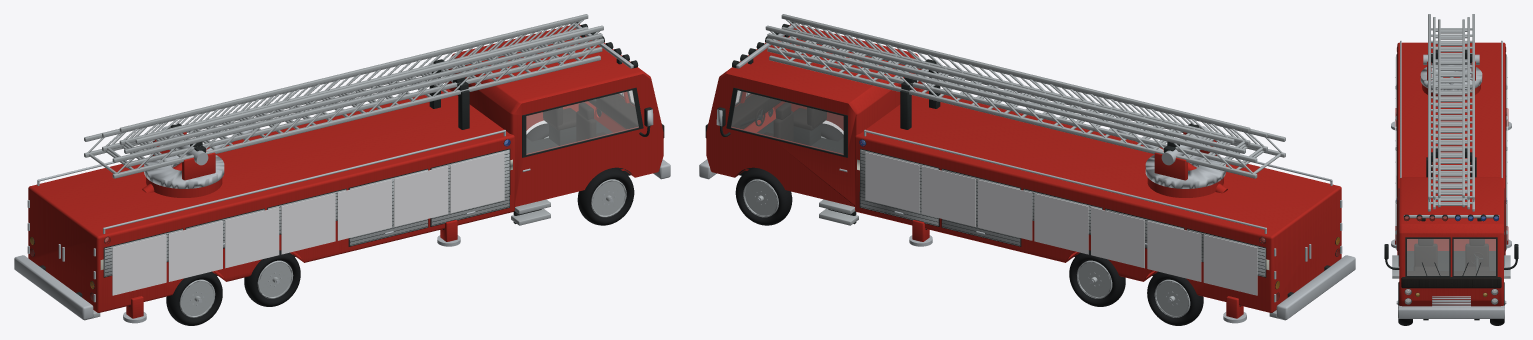
Rendered from ladder.glb.
3 renders of one model, left to right at view 1: azimuth 30°, elevation 25°; view 2: azimuth 150°, elevation 25°; view 3: azimuth 270°, elevation 25°, orthographic. The views are drawn at different scales.
Parts seen in each view (by area): view 1: Closed turntable pedestal, Axle 1 left wheel bearing hub, Axle 1 left wheel seated through axle, Axle 1 bowed spring leaf 590 0, Axle 1 left wheel rounded tyre carcass, Cab 1 side window finite glazing, Ladder 1 compartment R4 door (approx), Ladder 1 compartment R1 door (approx), Ladder 1 compartment R7 door (approx), Ladder 1 compartment R3 door (approx), Ladder 1 compartment R6 door (approx), Ladder 1 compartment R5 door (approx) (+2 smaller); view 2: Closed turntable pedestal, Axle 1 left wheel bearing hub, Axle 1 left wheel seated through axle, Axle 1 bowed spring leaf 590 0, Axle 1 left wheel rounded tyre carcass, Cab 1 side window finite glazing, Ladder 1 compartment L1 door (approx), Ladder 1 compartment L4 door (approx), Ladder 1 compartment L3 door (approx), Ladder 1 compartment L6 door (approx), Ladder 1 compartment L7 door (approx), Ladder 1 compartment L2 door (approx) (+2 smaller); view 3: Closed turntable pedestal, Axle 1 left wheel bearing hub, Axle 1 left wheel seated through axle, Axle 1 bowed spring leaf 590 0, Cab 1 side window finite glazing, Cab seat 1 backrest, Axle 1 left wheel rounded tyre carcass, Forward headlamp 1 0 finite curved optic.
Boxes of the visible parts, left/top/right/bottom form: Closed turntable pedestal: left=28, top=24, right=663, bottom=318; Axle 1 left wheel bearing hub: left=84, top=14, right=626, bottom=320; Axle 1 left wheel seated through axle: left=14, top=23, right=670, bottom=323; Axle 1 bowed spring leaf 590 0: left=30, top=22, right=652, bottom=306; Axle 1 left wheel rounded tyre carcass: left=166, top=123, right=634, bottom=325; Cab 1 side window finite glazing: left=526, top=90, right=638, bottom=154; Ladder 1 compartment R4 door (approx): left=281, top=193, right=335, bottom=254; Ladder 1 compartment R1 door (approx): left=450, top=152, right=504, bottom=213; Ladder 1 compartment R7 door (approx): left=112, top=234, right=166, bottom=295; Ladder 1 compartment R3 door (approx): left=337, top=179, right=391, bottom=240; Ladder 1 compartment R6 door (approx): left=168, top=221, right=222, bottom=281; Ladder 1 compartment R5 door (approx): left=225, top=207, right=279, bottom=268; Closed turntable pedestal: left=706, top=24, right=1341, bottom=318; Axle 1 left wheel bearing hub: left=743, top=14, right=1285, bottom=320; Axle 1 left wheel seated through axle: left=699, top=23, right=1355, bottom=323; Axle 1 bowed spring leaf 590 0: left=717, top=22, right=1339, bottom=306; Axle 1 left wheel rounded tyre carcass: left=735, top=123, right=1203, bottom=325; Cab 1 side window finite glazing: left=731, top=90, right=843, bottom=154; Ladder 1 compartment L1 door (approx): left=865, top=152, right=919, bottom=213; Ladder 1 compartment L4 door (approx): left=1034, top=193, right=1088, bottom=254; Ladder 1 compartment L3 door (approx): left=978, top=179, right=1032, bottom=240; Ladder 1 compartment L6 door (approx): left=1147, top=221, right=1201, bottom=281; Ladder 1 compartment L7 door (approx): left=1203, top=234, right=1257, bottom=295; Ladder 1 compartment L2 door (approx): left=921, top=166, right=975, bottom=226; Closed turntable pedestal: left=1395, top=42, right=1508, bottom=306; Axle 1 left wheel bearing hub: left=1392, top=14, right=1510, bottom=304; Axle 1 left wheel seated through axle: left=1384, top=40, right=1518, bottom=318; Axle 1 bowed spring leaf 590 0: left=1384, top=46, right=1518, bottom=320; Cab 1 side window finite glazing: left=1407, top=239, right=1495, bottom=275; Cab seat 1 backrest: left=1401, top=239, right=1501, bottom=288; Axle 1 left wheel rounded tyre carcass: left=1398, top=282, right=1504, bottom=325; Forward headlamp 1 0 finite curved optic: left=1405, top=289, right=1497, bottom=304.
Bounding box in the file's own units: 12.08 × 3.48 × 3.1.
13 materials, 7 textured.
